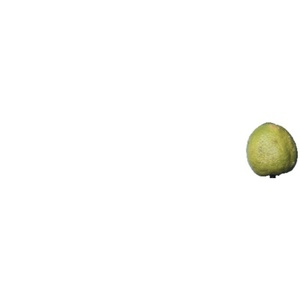limão: (246, 123, 298, 178)
